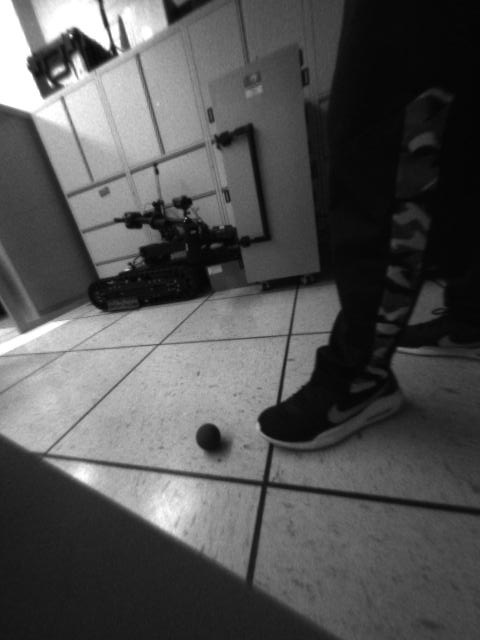dogtoy: (188, 414, 230, 454)
